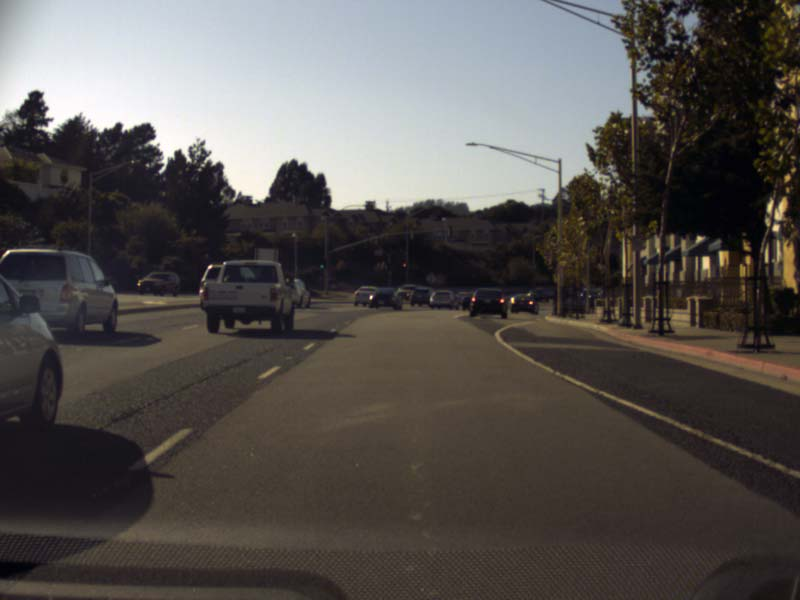Green: (318, 258, 324, 268)
Red: (401, 262, 406, 272)
